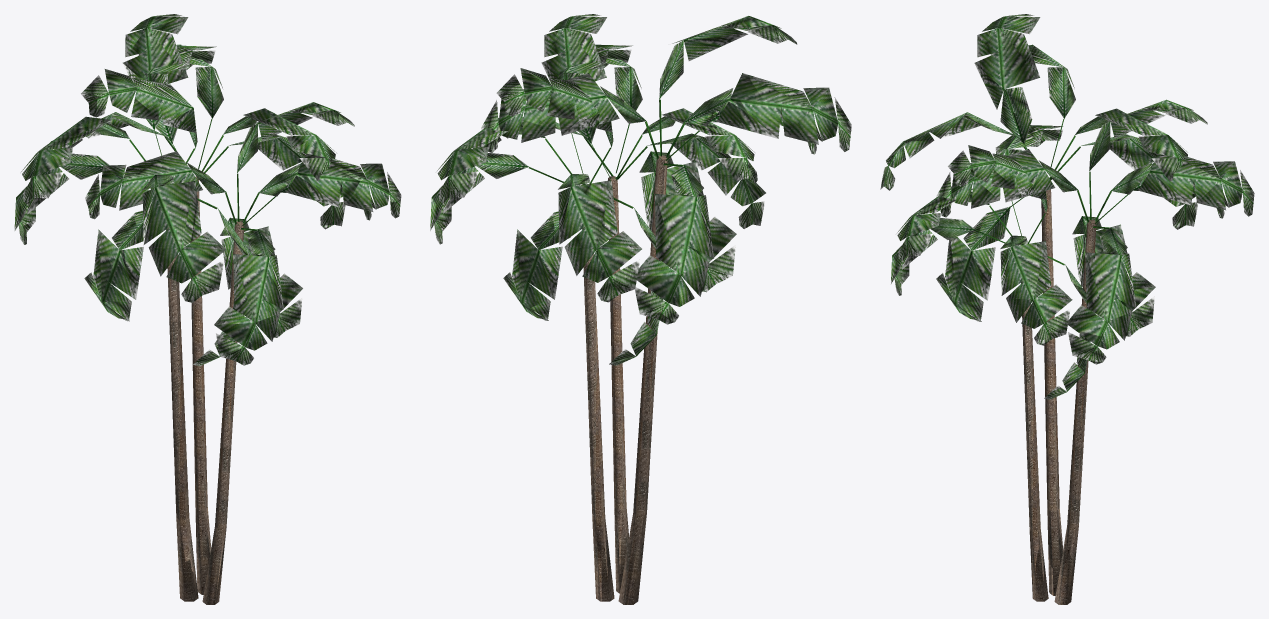
Rendered from palmeira1.fbx.
3 views of the same model, side by side, from view 1: azimuth 30°, elevation 25°; view 2: azimuth 150°, elevation 25°; view 3: azimuth 270°, elevation 25° (orthographic). The views are drawn at different scales.
Visible parts, largest first — view 1: TP-Z-Palm-603; view 2: TP-Z-Palm-603; view 3: TP-Z-Palm-603.
Boxes of the visible parts, <box> form: TP-Z-Palm-603: <box>14,14,401,604</box>; TP-Z-Palm-603: <box>430,14,851,604</box>; TP-Z-Palm-603: <box>880,14,1254,604</box>.
Size of the model in its own units: 259 by 387 by 247.
